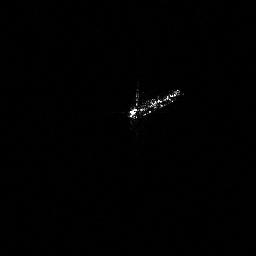ship: (129, 87, 182, 119)
